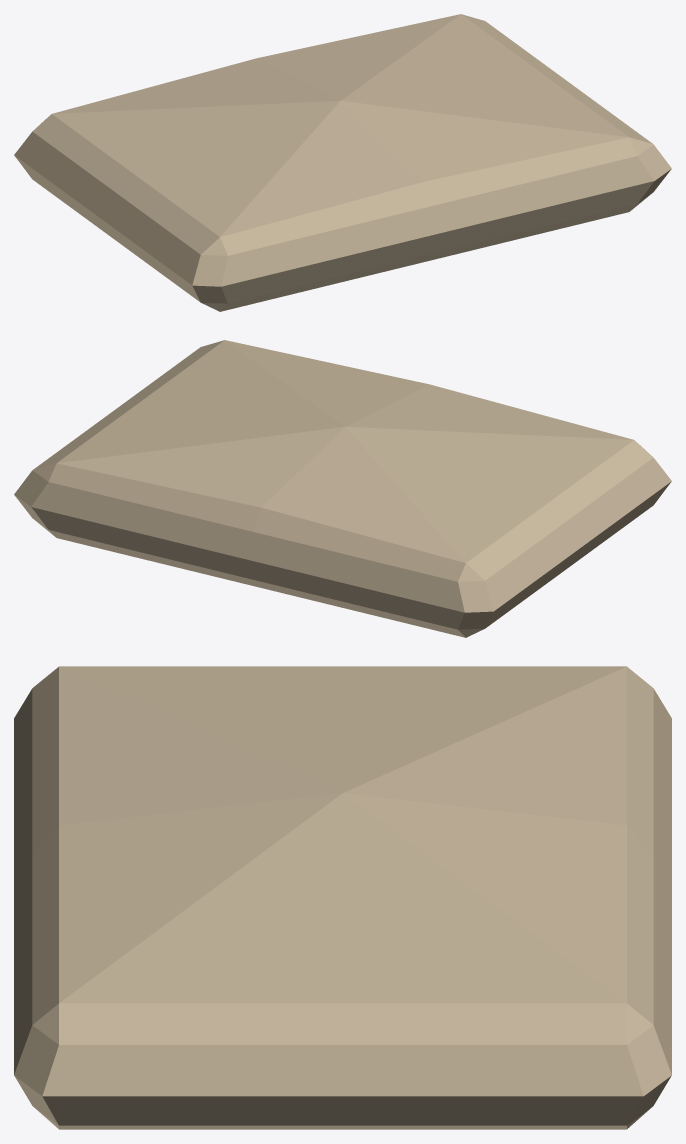
The model's file is Pillow_3A.fbx.
3 views of the same model, one above another, from view 1: azimuth 30°, elevation 25°; view 2: azimuth 150°, elevation 25°; view 3: azimuth 270°, elevation 25° (orthographic). The views are drawn at different scales.
Parts seen in each view (by area): view 1: pCube916; view 2: pCube916; view 3: pCube916.
Boxes of the visible parts, x1,y1,x2,y2 form: pCube916: [14, 14, 671, 311]; pCube916: [14, 340, 671, 637]; pCube916: [14, 666, 671, 1129].
Bounding box in the file's own units: 0.5343 × 0.1264 × 0.3764.
1 material, 1 textured.
